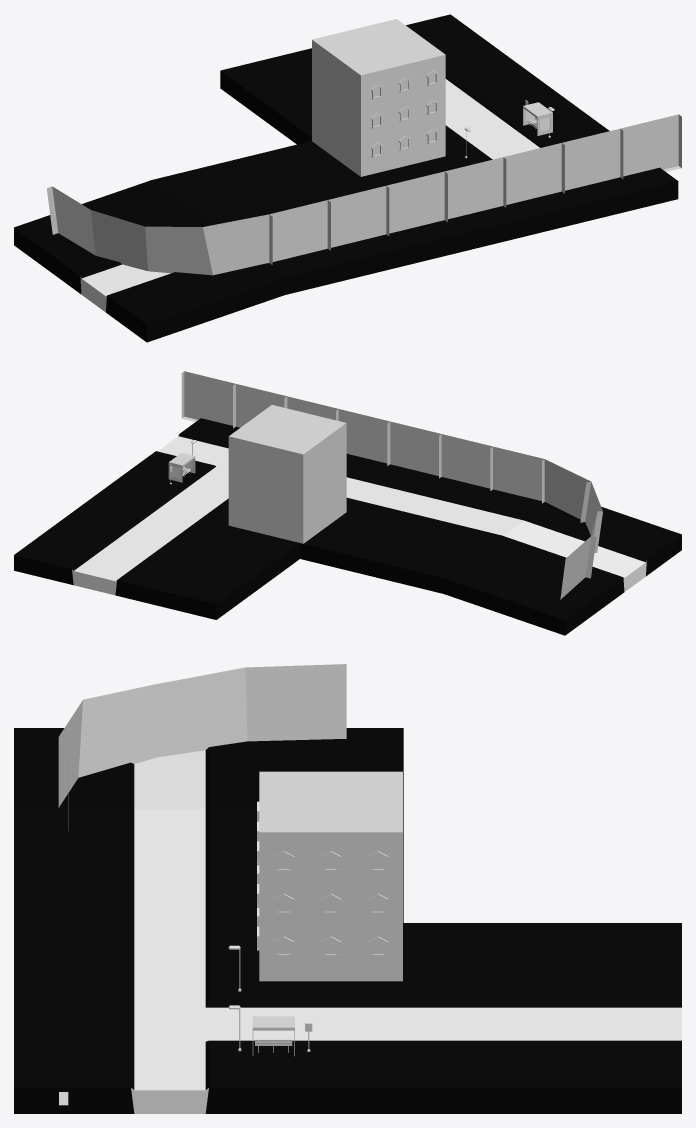
File: world.glb
The picture shows the model from 3 angles, top to bottom: view 1: azimuth 30°, elevation 25°; view 2: azimuth 150°, elevation 25°; view 3: azimuth 270°, elevation 25°; orthographic projection. The views are drawn at different scales.
Parts seen in each view (by area): view 1: ground, Cube, building 1, shelter; view 2: ground, Cube, building 1, shelter; view 3: ground, building 1, Cube, shelter.
Part boxes in pixels (x1=…): ground: x1=14, y1=14, x2=678, y2=342; Cube: x1=46, y1=114, x2=681, y2=275; building 1: x1=312, y1=19, x2=445, y2=176; shelter: x1=523, y1=102, x2=552, y2=135; ground: x1=14, y1=418, x2=681, y2=635; Cube: x1=181, y1=371, x2=602, y2=599; building 1: x1=228, y1=405, x2=346, y2=543; shelter: x1=168, y1=453, x2=195, y2=482; ground: x1=14, y1=728, x2=681, y2=1113; building 1: x1=257, y1=771, x2=402, y2=981; Cube: x1=58, y1=664, x2=346, y2=1105; shelter: x1=252, y1=1016, x2=294, y2=1056.
Bounding box in the file's own units: 198 × 45.8 × 142.
Materials: 2 (1 with a texture image).
